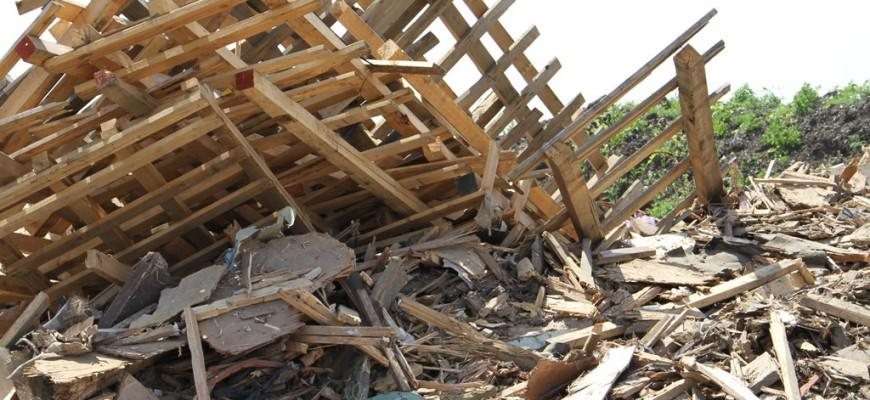wood: (51, 9, 507, 215), (6, 96, 310, 287), (543, 18, 721, 242)
